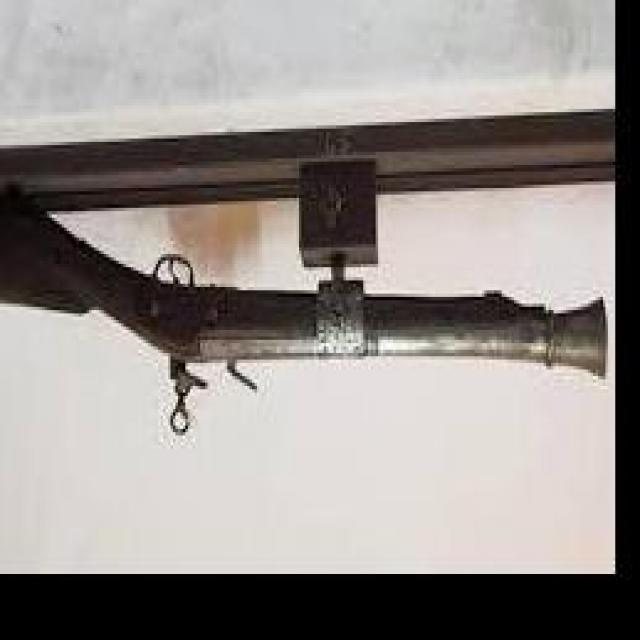weapon: (2, 184, 610, 438)
